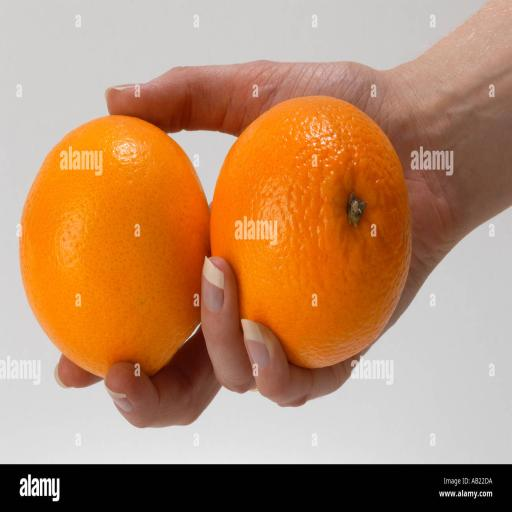orange: (211, 97, 411, 367), (20, 116, 209, 376)
